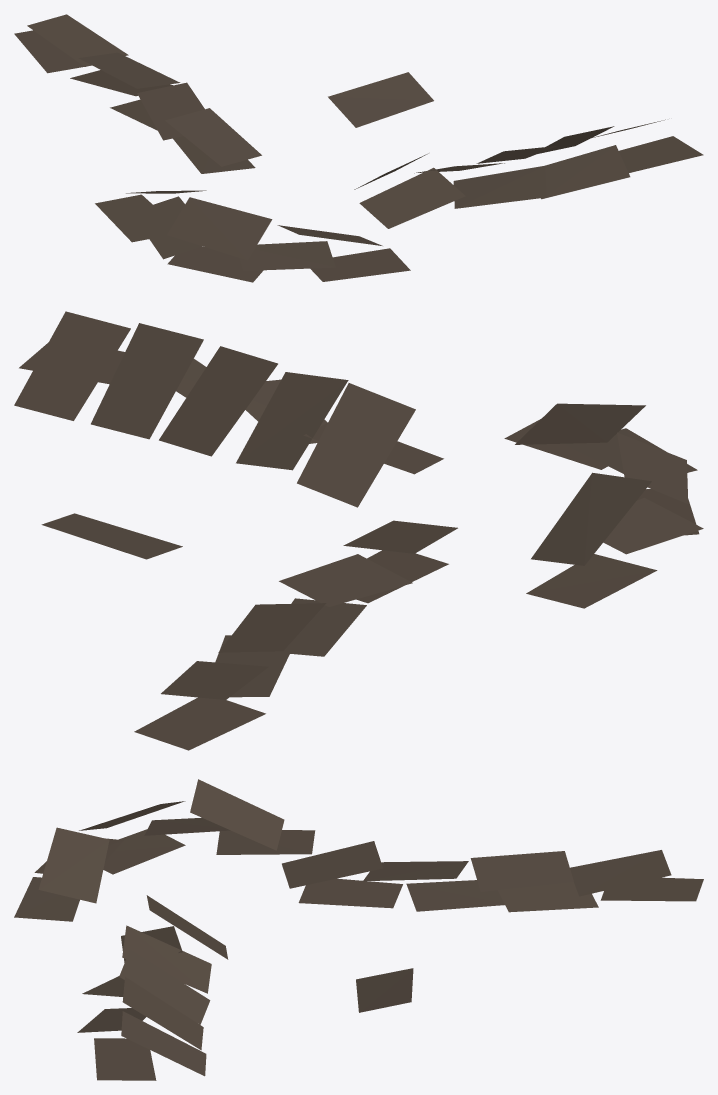
Rendered from sandbags.lod2.glb.
3 renders of one model, top to bottom at view 1: azimuth 30°, elevation 25°; view 2: azimuth 150°, elevation 25°; view 3: azimuth 270°, elevation 25°, orthographic. The views are drawn at different scales.
Visible parts, largest first — view 1: Object_2; view 2: Object_2; view 3: Object_2.
Boxes of the visible parts, x1=… form: Object_2: x1=14, y1=14, x2=703, y2=282; Object_2: x1=14, y1=311, x2=703, y2=750; Object_2: x1=14, y1=779, x2=703, y2=1080.
Bounding box in the file's own units: 9.01 × 1.02 × 10.17.
